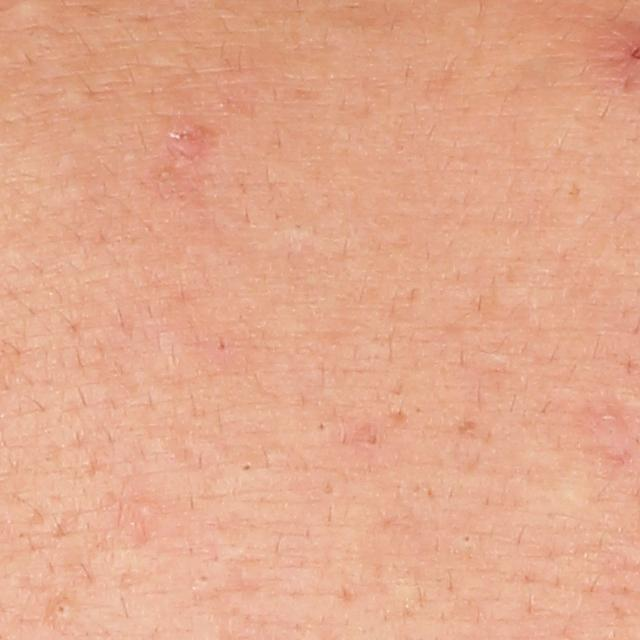comedo: (49, 599, 71, 621), (361, 432, 383, 451), (137, 501, 154, 519), (461, 531, 475, 546), (240, 460, 254, 474)
